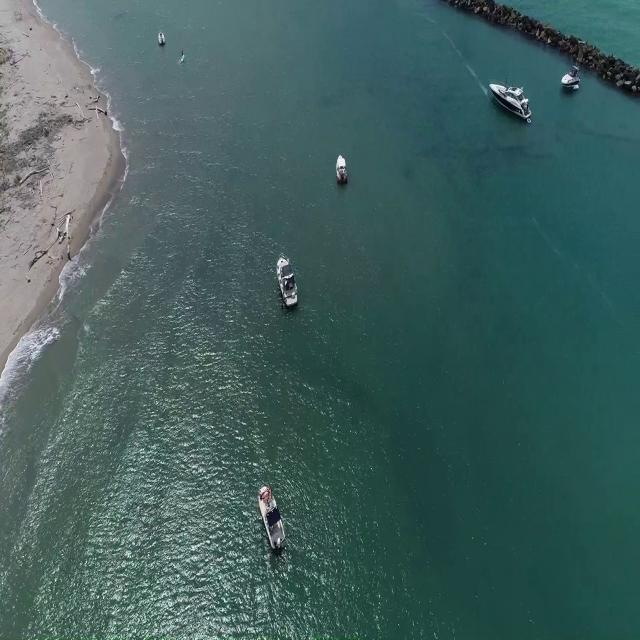boat: (489, 82, 535, 127), (260, 483, 284, 549), (276, 251, 300, 309), (560, 66, 585, 93), (336, 150, 352, 186), (157, 29, 166, 46)
person: (180, 43, 186, 55)
surfboard: (180, 53, 188, 66)
wood: (32, 215, 74, 260)
